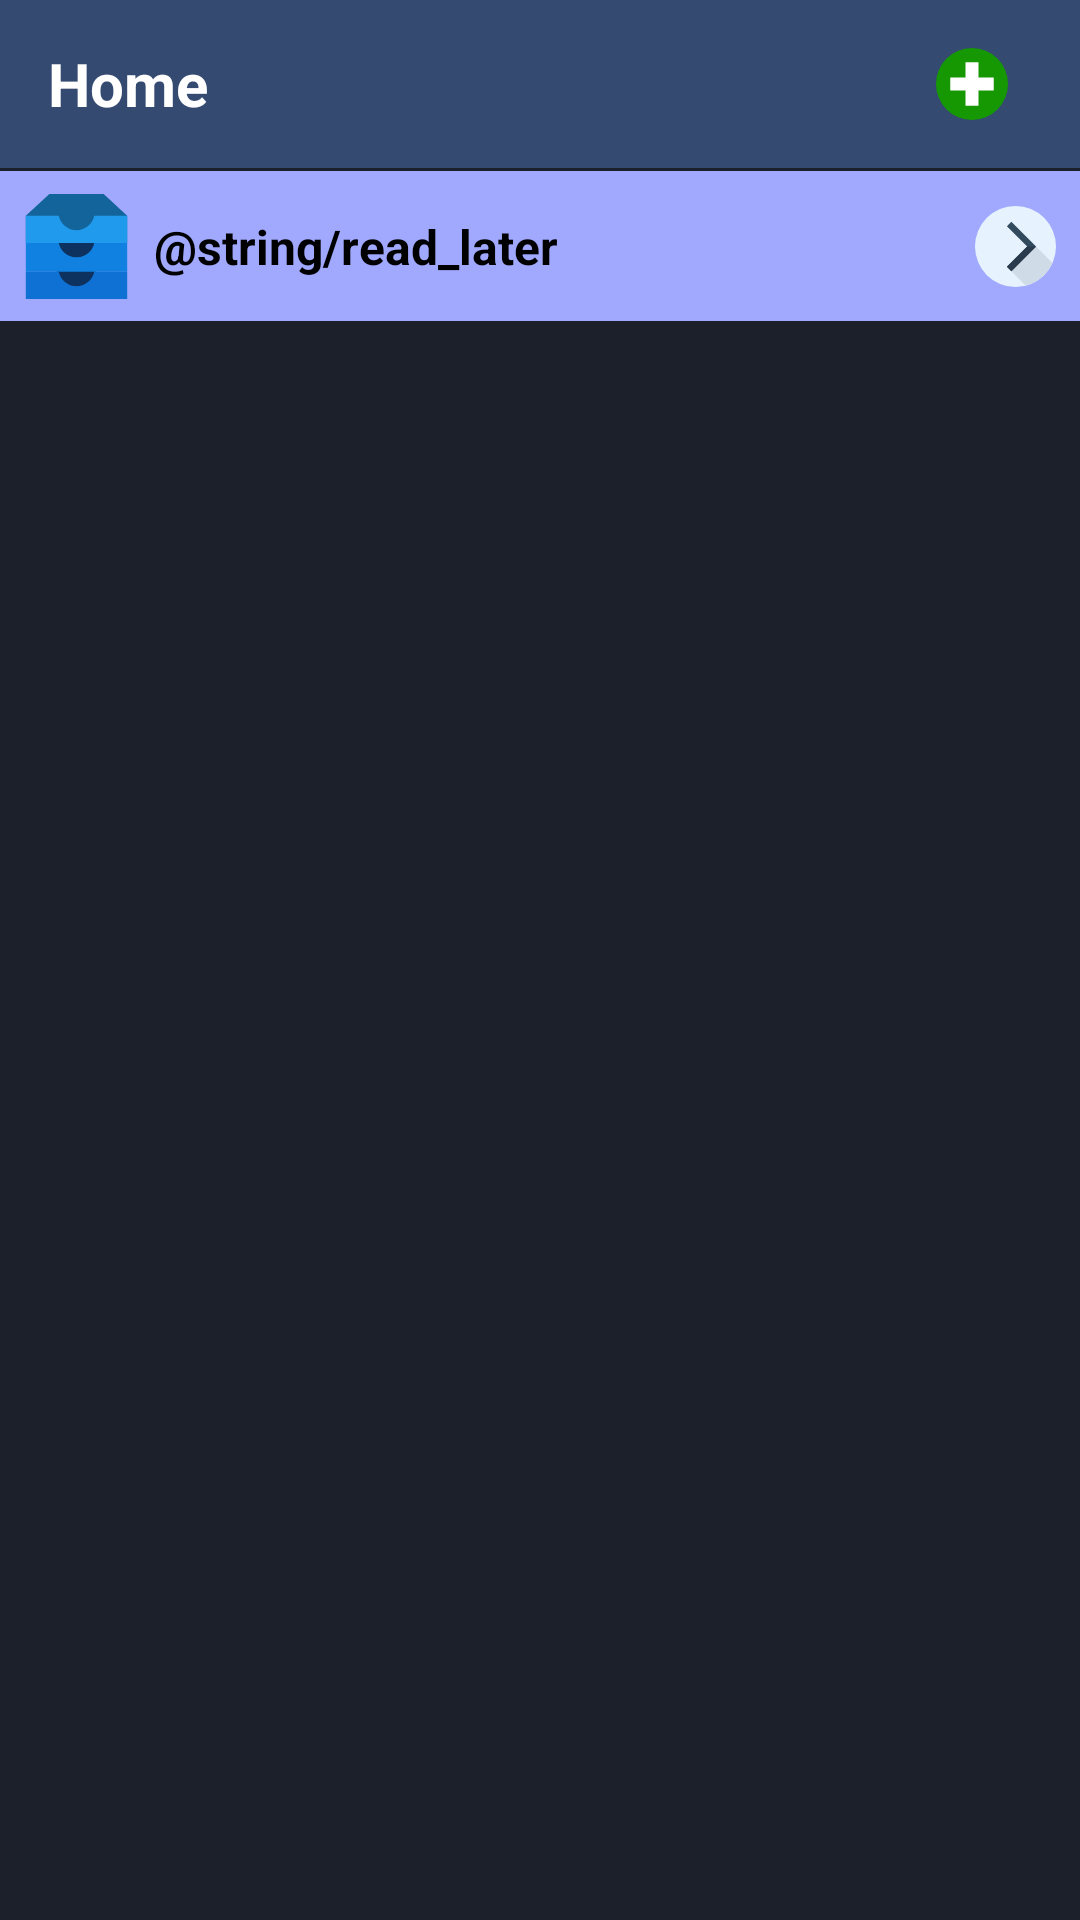

Icons on this 1080 × 1920 Android screen, each with the point to tap as (x=x, y=y):
Add: (x=972, y=84)
archive: (x=76, y=246)
right: (x=1015, y=246)
